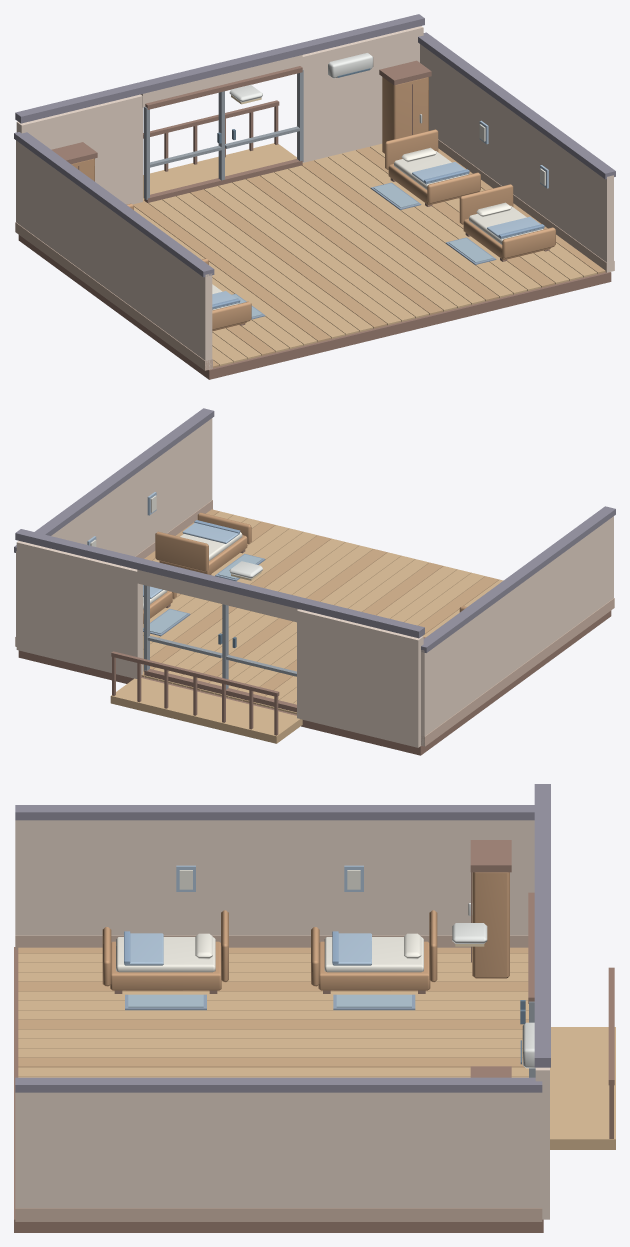
The model's file is dorm.glb.
The picture shows the model from 3 angles, top to bottom: view 1: azimuth 30°, elevation 25°; view 2: azimuth 150°, elevation 25°; view 3: azimuth 270°, elevation 25°; orthographic projection. The views are drawn at different scales.
Parts seen in each view (by area): view 1: ENV_side_wall_-557, ENV_side_wall_557, ENV_back_wall_panel_1, ENV_back_wall_panel_0, ENV_main_floor, ENV_back_top_beam, ENV_side_wall_cap_-557, ENV_side_wall_cap_557, EXT_balcony_floor, ENV_floor_plank_21, ENV_floor_plank_08, ENV_floor_plank_20 (+49 smaller); view 2: ENV_side_wall_-557, ENV_back_wall_panel_0, ENV_back_wall_panel_1, ENV_side_wall_557, ENV_back_top_beam, EXT_balcony_floor, ENV_main_floor, ENV_side_wall_cap_-557, ENV_side_wall_cap_557, ENV_back_wall_header, ENV_side_baseboard_-557, ENV_floor_plank_16 (+25 smaller); view 3: ENV_side_wall_557, ENV_side_wall_-557, ENV_side_wall_cap_557, ENV_side_wall_cap_-557, EXT_balcony_floor, ENV_side_baseboard_557, ENV_main_floor, ENV_floor_plank_08, ENV_floor_plank_10, ENV_floor_plank_12, ENV_floor_plank_07, ENV_floor_plank_09 (+27 smaller).
Boxes of the visible parts, x1=… form: ENV_side_wall_-557: x1=16, y1=140, x2=212, y2=370; ENV_side_wall_557: x1=420, y1=44, x2=613, y2=272; ENV_back_wall_panel_1: x1=297, y1=26, x2=423, y2=162; ENV_back_wall_panel_0: x1=16, y1=94, x2=142, y2=204; ENV_main_floor: x1=18, y1=235, x2=611, y2=379; ENV_back_top_beam: x1=15, y1=14, x2=424, y2=123; ENV_side_wall_cap_-557: x1=14, y1=132, x2=214, y2=277; ENV_side_wall_cap_557: x1=418, y1=32, x2=615, y2=179; EXT_balcony_floor: x1=143, y1=143, x2=296, y2=200; ENV_floor_plank_21: x1=314, y1=157, x2=513, y2=297; ENV_floor_plank_08: x1=133, y1=200, x2=331, y2=342; ENV_floor_plank_20: x1=302, y1=160, x2=499, y2=301; ENV_side_wall_-557: x1=421, y1=516, x2=613, y2=746; ENV_back_wall_panel_0: x1=297, y1=609, x2=423, y2=747; ENV_back_wall_panel_1: x1=16, y1=541, x2=142, y2=678; ENV_side_wall_557: x1=16, y1=418, x2=212, y2=646; ENV_back_top_beam: x1=15, y1=529, x2=424, y2=638; EXT_balcony_floor: x1=110, y1=678, x2=302, y2=743; ENV_main_floor: x1=18, y1=514, x2=611, y2=755; ENV_side_wall_cap_-557: x1=421, y1=506, x2=615, y2=652; ENV_side_wall_cap_557: x1=14, y1=408, x2=214, y2=552; ENV_back_wall_header: x1=137, y1=569, x2=298, y2=622; ENV_side_baseboard_-557: x1=421, y1=598, x2=614, y2=746; ENV_floor_plank_16: x1=186, y1=549, x2=387, y2=690; ENV_side_wall_557: x1=15, y1=1092, x2=542, y2=1207; ENV_side_wall_-557: x1=15, y1=820, x2=534, y2=935; ENV_side_wall_cap_557: x1=15, y1=1077, x2=542, y2=1092; ENV_side_wall_cap_-557: x1=15, y1=805, x2=534, y2=820; EXT_balcony_floor: x1=550, y1=1027, x2=615, y2=1149; ENV_side_baseboard_557: x1=15, y1=1208, x2=542, y2=1221; ENV_main_floor: x1=14, y1=947, x2=543, y2=1232; ENV_floor_plank_08: x1=18, y1=1019, x2=528, y2=1029; ENV_floor_plank_10: x1=18, y1=1038, x2=522, y2=1048; ENV_floor_plank_12: x1=18, y1=1057, x2=524, y2=1067; ENV_floor_plank_07: x1=18, y1=1010, x2=528, y2=1019; ENV_floor_plank_09: x1=18, y1=1029, x2=522, y2=1038.
Bounding box in the file's own units: 11.44 × 3.34 × 10.4.
